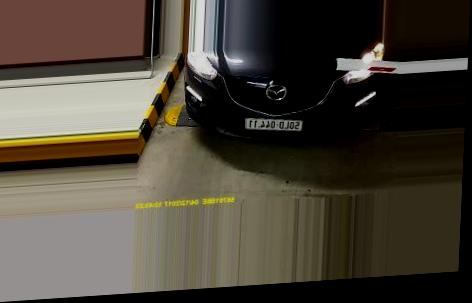License_Plate: (240, 114, 307, 135)
